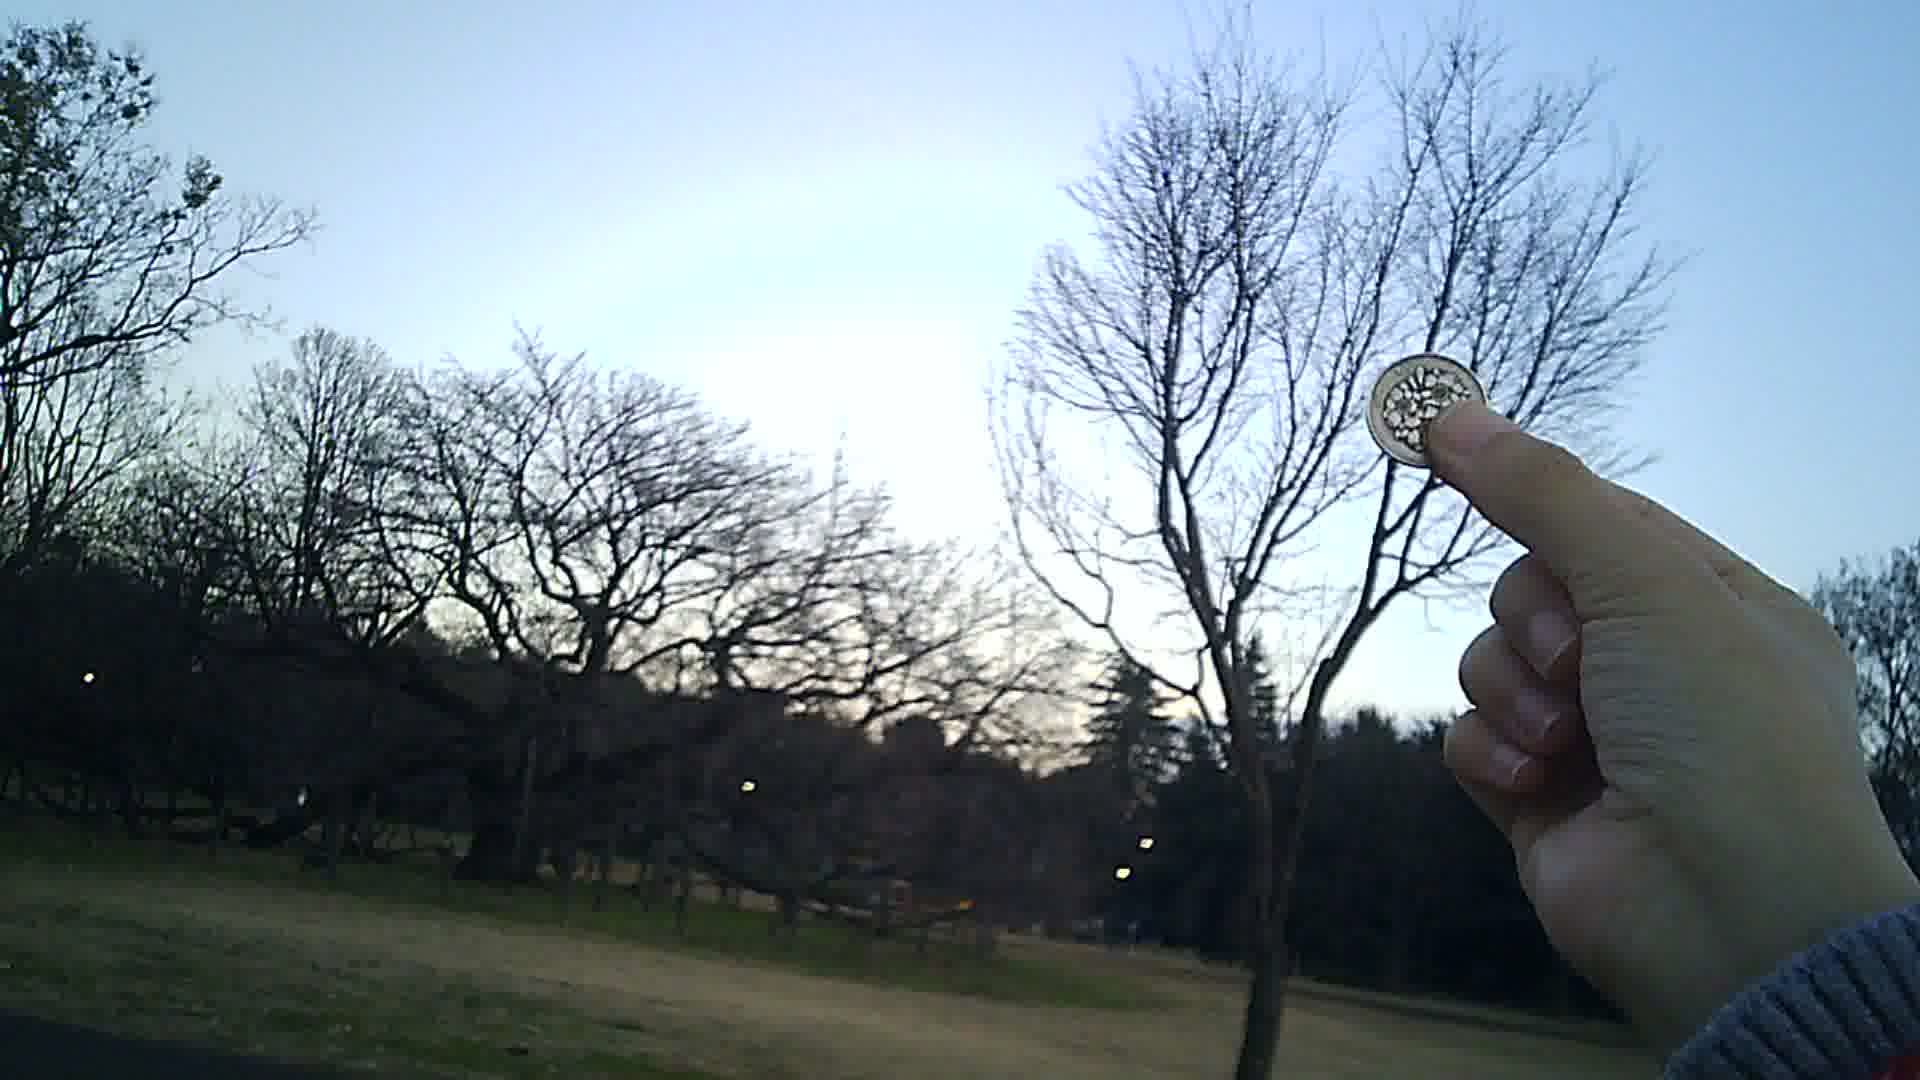100 Yen: (1364, 352, 1491, 469)
